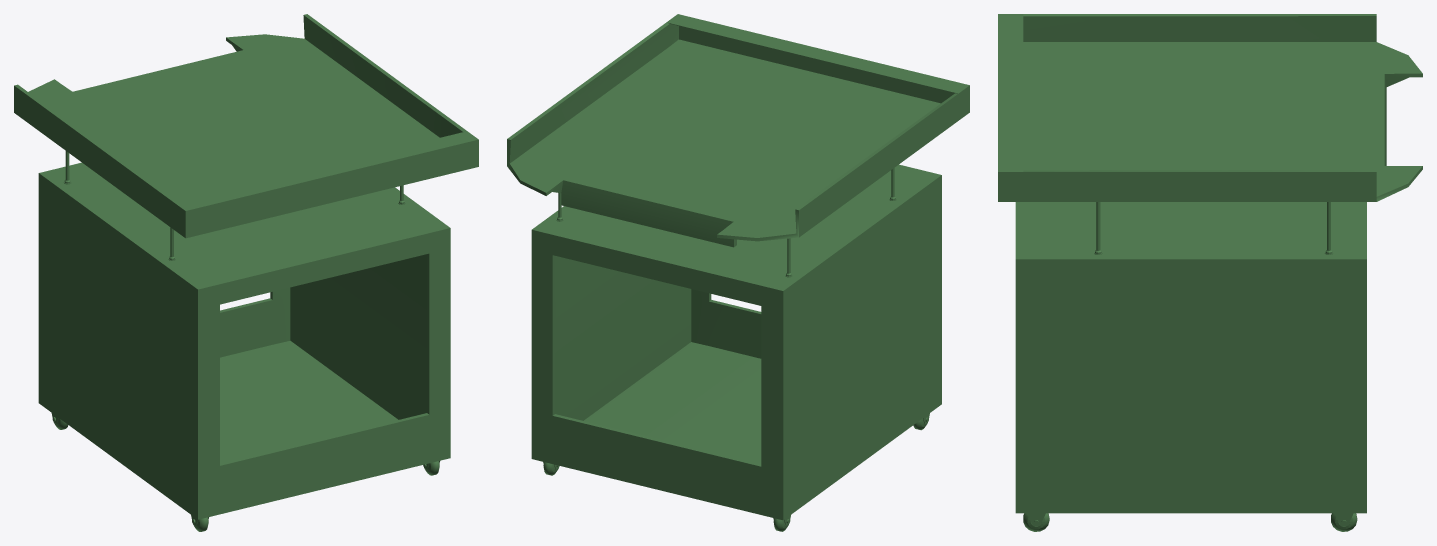
Rendered from MesaMovimentacao.fbx.
3 renders of one model, left to right at view 1: azimuth 30°, elevation 25°; view 2: azimuth 150°, elevation 25°; view 3: azimuth 270°, elevation 25°, orthographic. The views are drawn at different scales.
Visible parts, largest first — view 1: BANDEJA; view 2: BANDEJA; view 3: BANDEJA.
Part boxes in pixels (<box>): BANDEJA: <box>14,14,478,531</box>; BANDEJA: <box>507,14,969,531</box>; BANDEJA: <box>998,14,1422,531</box>.
Bounding box in the file's own units: 27.36 × 30.32 × 31.11.
